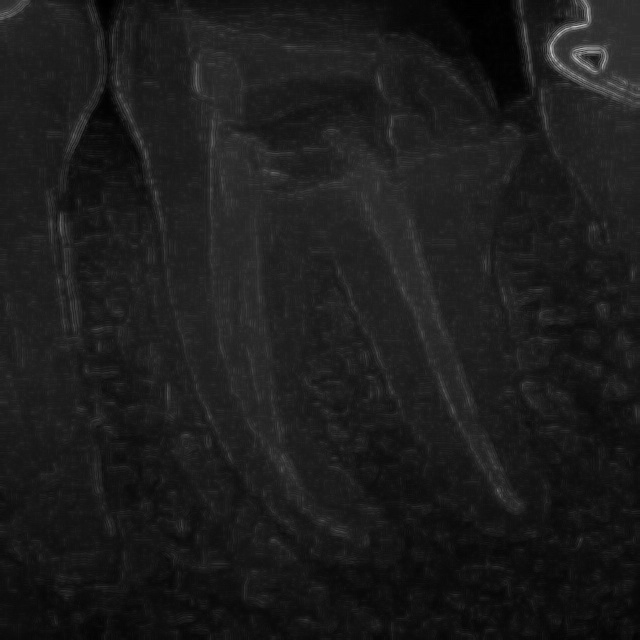Class 0- No endodontic treatment: (96, 1, 602, 575)
